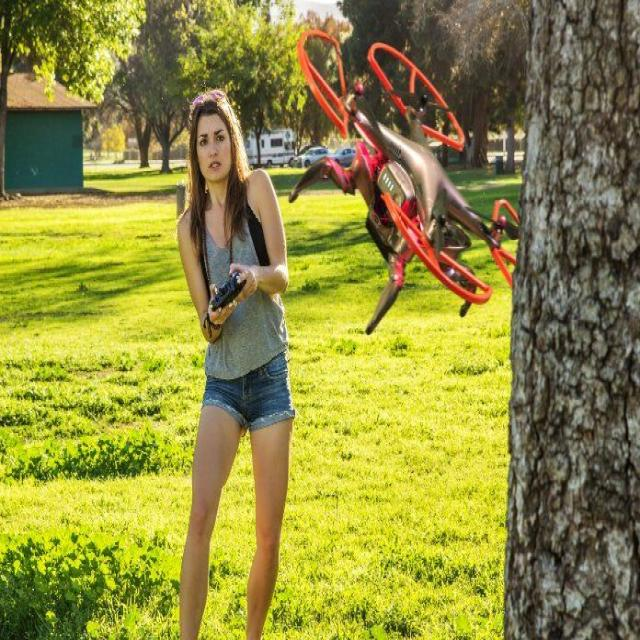drone: (287, 25, 523, 345)
